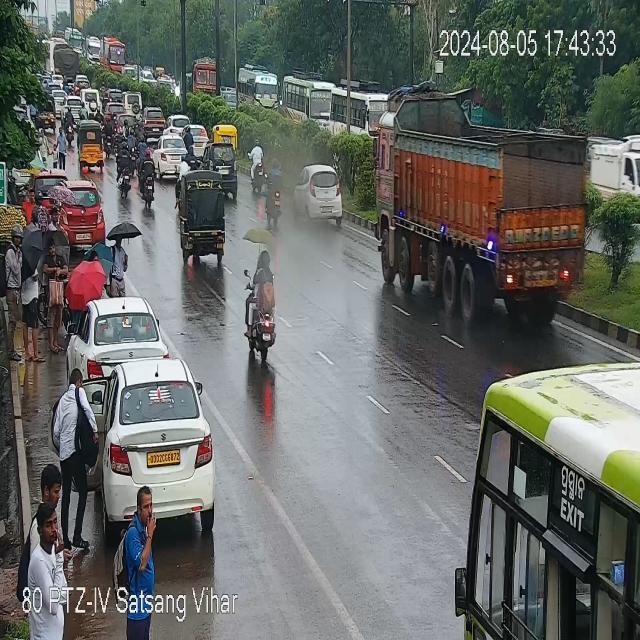2-wheelers: (245, 264, 283, 363), (264, 156, 284, 232), (110, 117, 147, 157), (250, 139, 272, 191), (137, 154, 157, 206), (115, 140, 134, 194), (175, 152, 188, 193)
auto: (180, 176, 230, 266), (76, 120, 105, 169), (204, 144, 240, 174), (79, 89, 101, 117), (213, 126, 239, 148)
bus: (456, 353, 639, 640), (100, 39, 125, 73)
car: (68, 357, 220, 527), (72, 299, 166, 377), (296, 165, 345, 223), (59, 181, 105, 238), (155, 136, 192, 176), (186, 126, 210, 154), (142, 107, 167, 129), (124, 88, 142, 115), (170, 116, 196, 133), (105, 100, 124, 118)
pedestrian: (30, 474, 72, 586), (117, 485, 159, 588), (55, 374, 84, 511), (22, 234, 46, 364), (48, 246, 70, 353), (37, 129, 70, 173), (107, 234, 128, 291), (24, 186, 40, 220)
truck: (374, 124, 594, 308), (191, 52, 216, 97), (52, 45, 81, 79), (61, 95, 79, 120), (66, 107, 74, 148)
